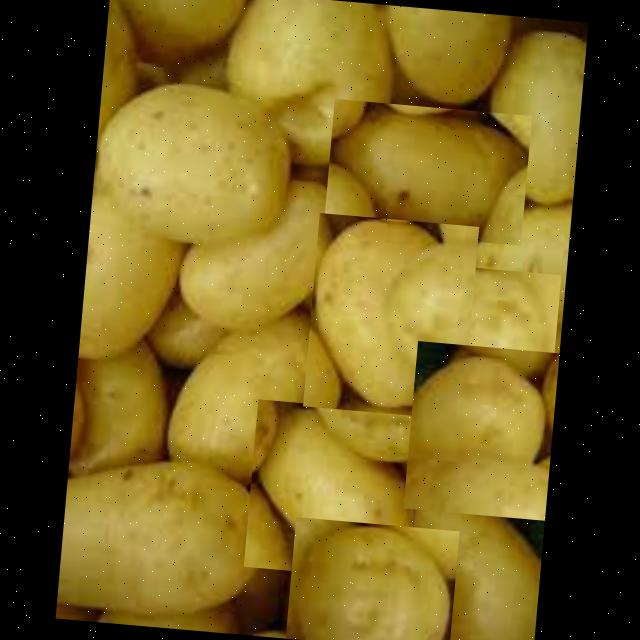Potato: (54, 444, 272, 626), (90, 73, 300, 254), (302, 212, 478, 420), (170, 168, 360, 346), (242, 398, 422, 580), (158, 300, 324, 496), (212, 0, 402, 171), (322, 98, 531, 245), (368, 259, 560, 416), (376, 471, 545, 640), (76, 123, 194, 364), (402, 340, 558, 521), (284, 516, 458, 640), (473, 21, 584, 208)
